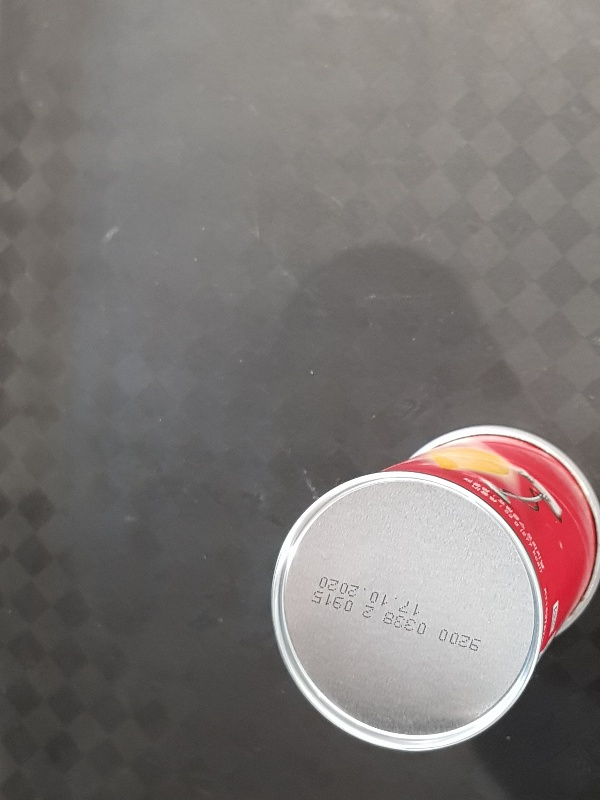Pringles Original: (267, 425, 600, 753)
